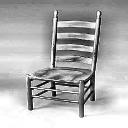chair_success: (16, 6, 105, 118)
